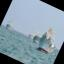fishing boat: (34, 25, 64, 58), (30, 28, 44, 45), (2, 17, 16, 32)
